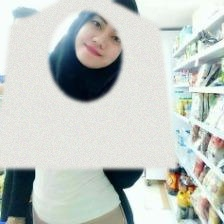Mukena: (0, 0, 176, 169)
